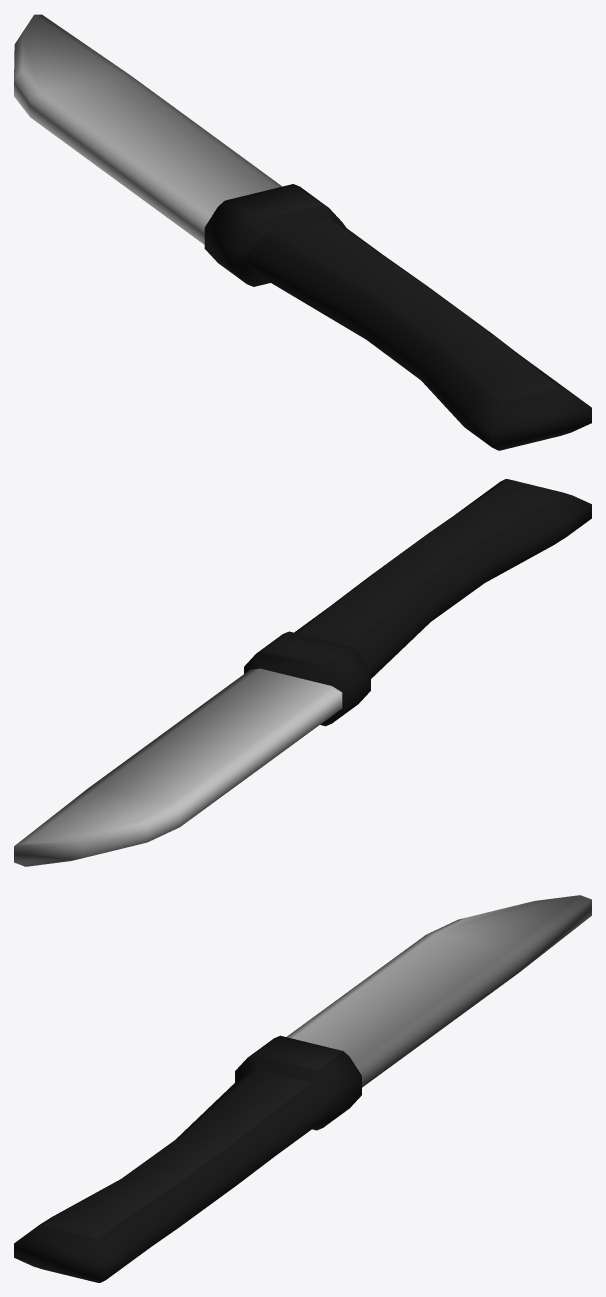
Rendered from tools_knife.fbx.
The picture shows the model from 3 angles, top to bottom: view 1: azimuth 30°, elevation 25°; view 2: azimuth 150°, elevation 25°; view 3: azimuth 330°, elevation 25°; orthographic projection. The views are drawn at different scales.
Parts seen in each view (by area): view 1: tools_knife; view 2: tools_knife; view 3: tools_knife.
Part boxes in pixels (left/top/right/bottom): tools_knife: left=14, top=14, right=591, bottom=450; tools_knife: left=14, top=479, right=591, bottom=866; tools_knife: left=14, top=895, right=591, bottom=1282.
Bounding box in the file's own units: 1.89 × 1.08 × 16.2.
